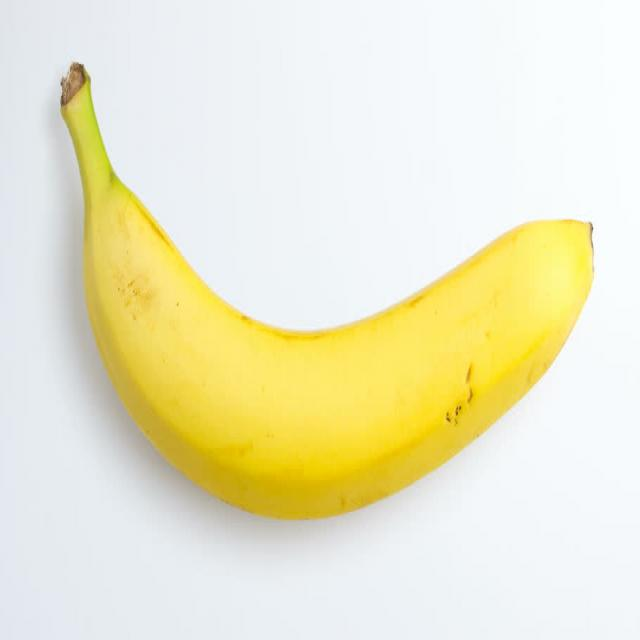Banana: (59, 47, 592, 523)
